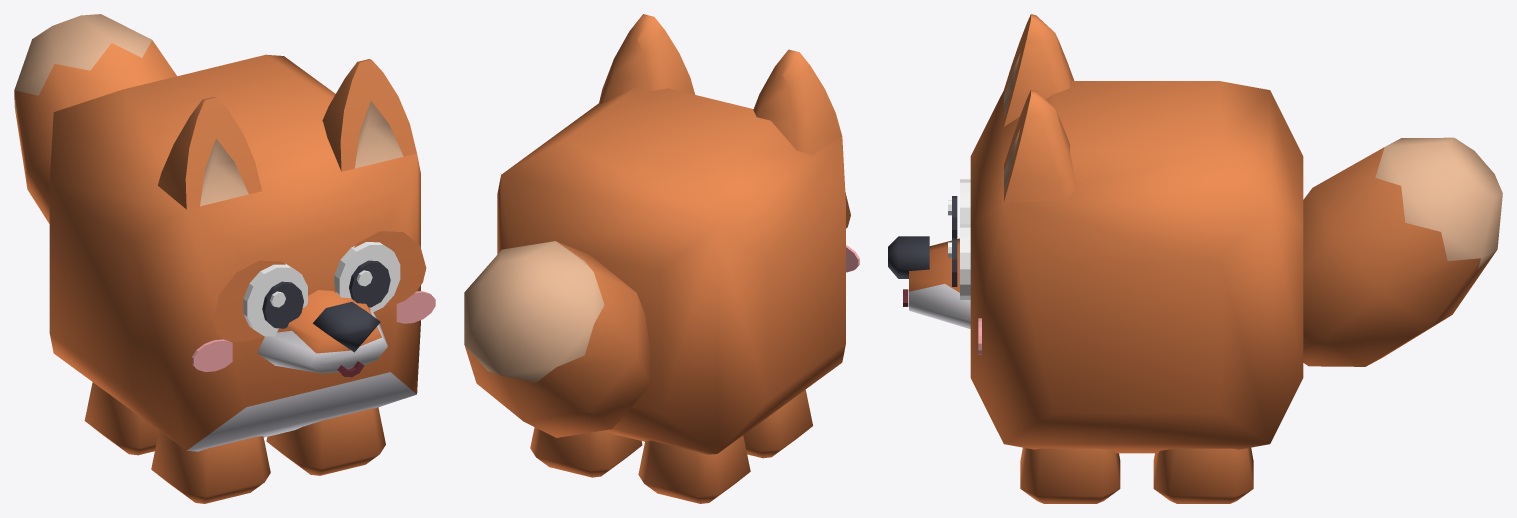
Rendered from fox.glb.
3 renders of one model, left to right at view 1: azimuth 30°, elevation 25°; view 2: azimuth 150°, elevation 25°; view 3: azimuth 270°, elevation 25°, orthographic. The views are drawn at different scales.
Parts seen in each view (by area): view 1: body, tail, leg-front-right, leg-front-left, leg-back-right; view 2: body, tail, leg-back-right, leg-back-left, leg-front-right; view 3: body, tail, leg-back-left, leg-front-left.
Part boxes in pixels (bbox=[...]): body: bbox=[49, 54, 435, 451]; tail: bbox=[14, 14, 176, 223]; leg-front-right: bbox=[151, 431, 270, 503]; leg-front-left: bbox=[266, 407, 385, 475]; leg-back-right: bbox=[84, 382, 158, 455]; body: bbox=[497, 14, 859, 454]; tail: bbox=[464, 241, 651, 437]; leg-back-right: bbox=[638, 435, 750, 503]; leg-back-left: bbox=[530, 427, 642, 477]; leg-front-right: bbox=[743, 390, 812, 458]; body: bbox=[888, 14, 1303, 453]; tail: bbox=[1303, 137, 1502, 366]; leg-back-left: bbox=[1153, 447, 1253, 503]; leg-front-left: bbox=[1020, 447, 1120, 503].
Size of the model in its own units: 1.25 by 1.69 by 2.31.
Materials: 1 (1 with a texture image).
